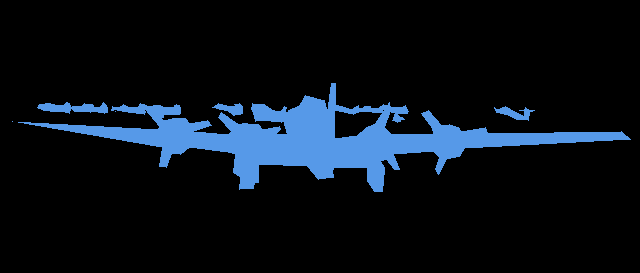Airplane: (12, 83, 630, 191), (251, 103, 288, 122), (494, 106, 535, 121), (147, 104, 181, 118), (71, 102, 108, 113), (111, 103, 148, 114), (212, 103, 242, 116), (37, 102, 70, 113), (389, 105, 408, 123), (334, 104, 359, 115), (358, 104, 387, 112)
